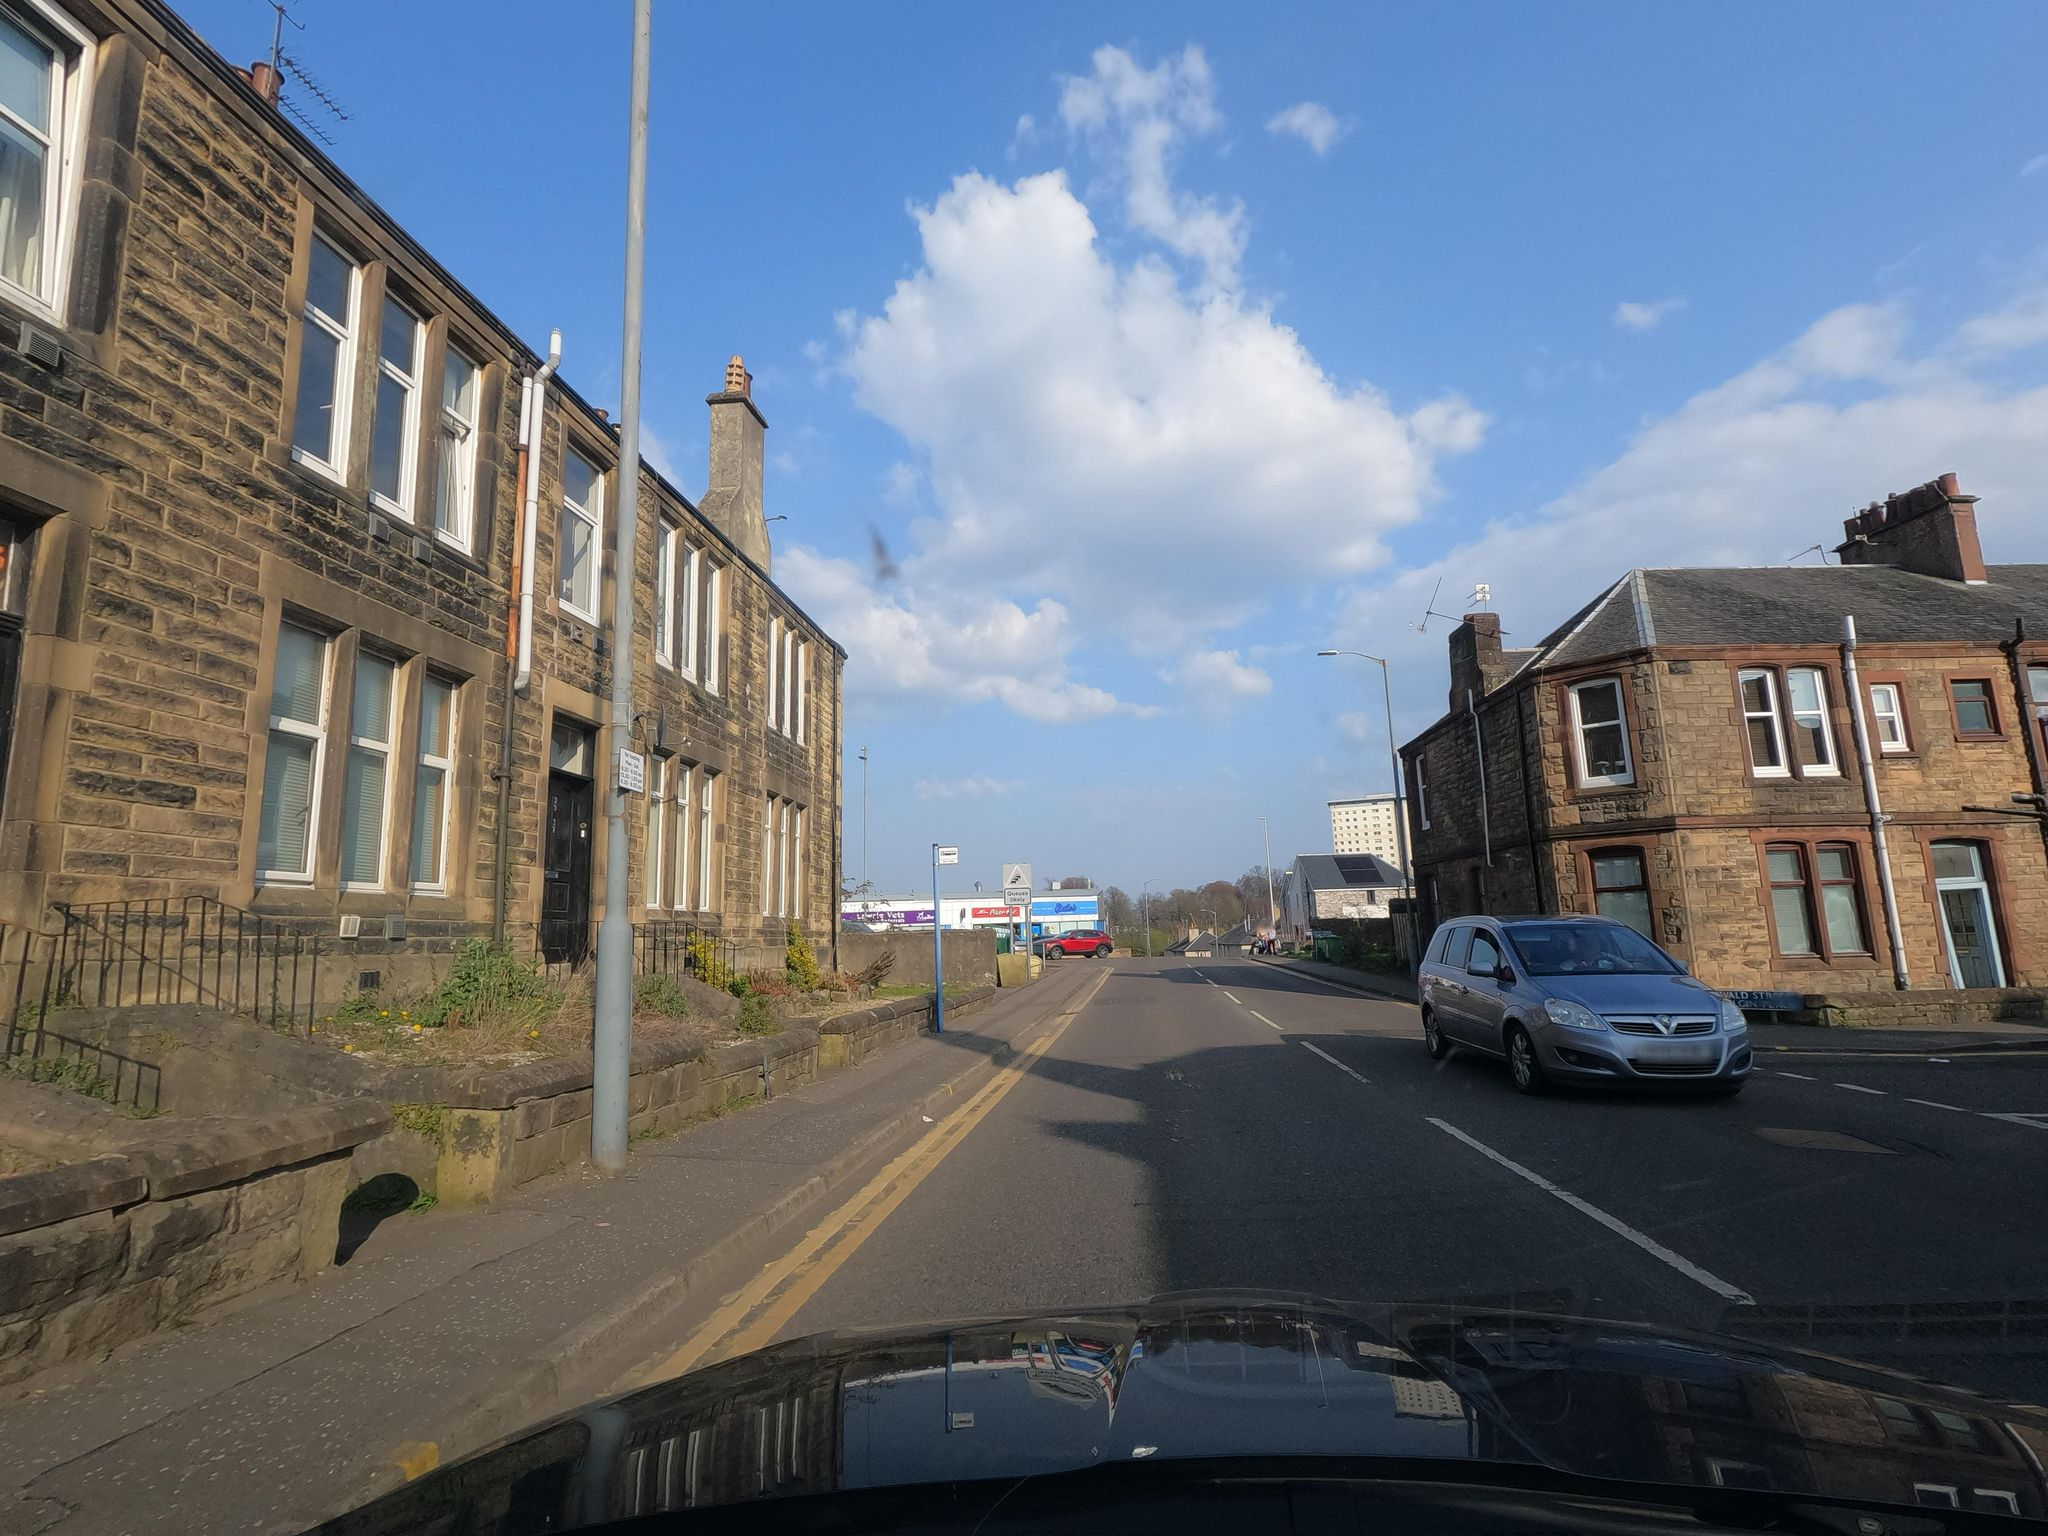car: (1417, 913, 1756, 1104), (1030, 929, 1114, 958)
